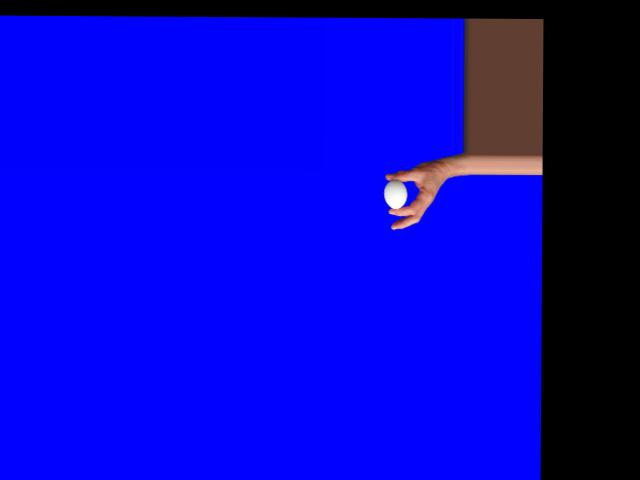egg: (383, 179, 407, 209)
